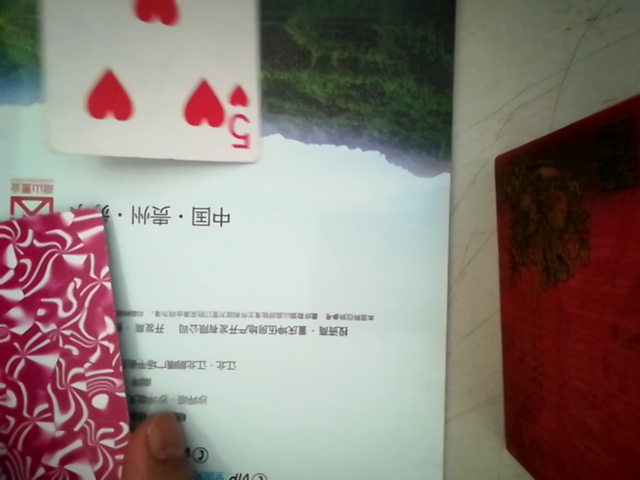hx 5: (28, 0, 267, 171)
